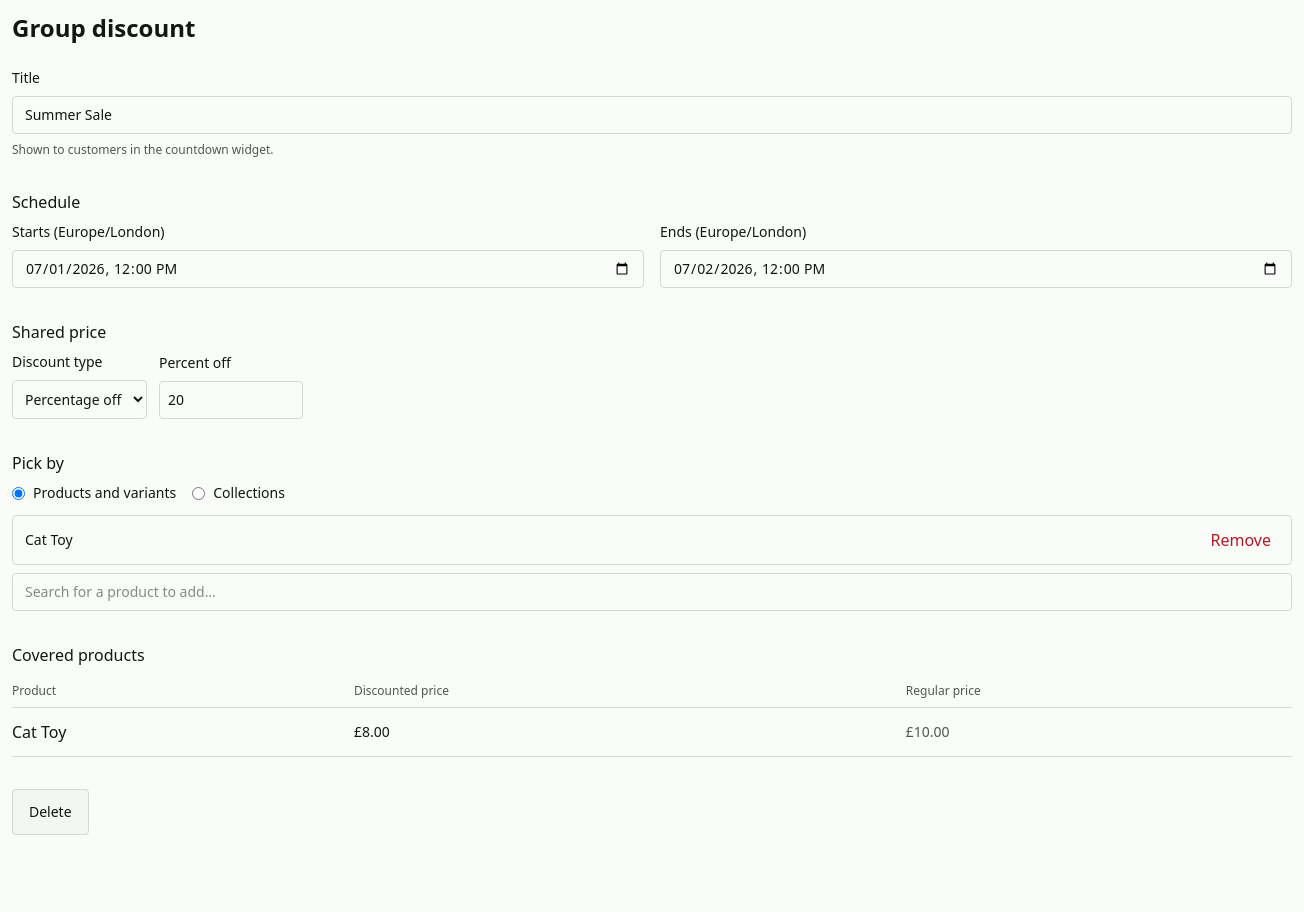
Test: GroupDiscountEditor — shared price › saves a new amount after a pause, shows the new prices and the "Saved" pill
This screenshot has width=1304, height=912.
Replace the text in the number field labelled "Percent off" with "30". click: x=231, y=400
box: top-left (159, 381), bottom-right (303, 419)
Wait 600 ms
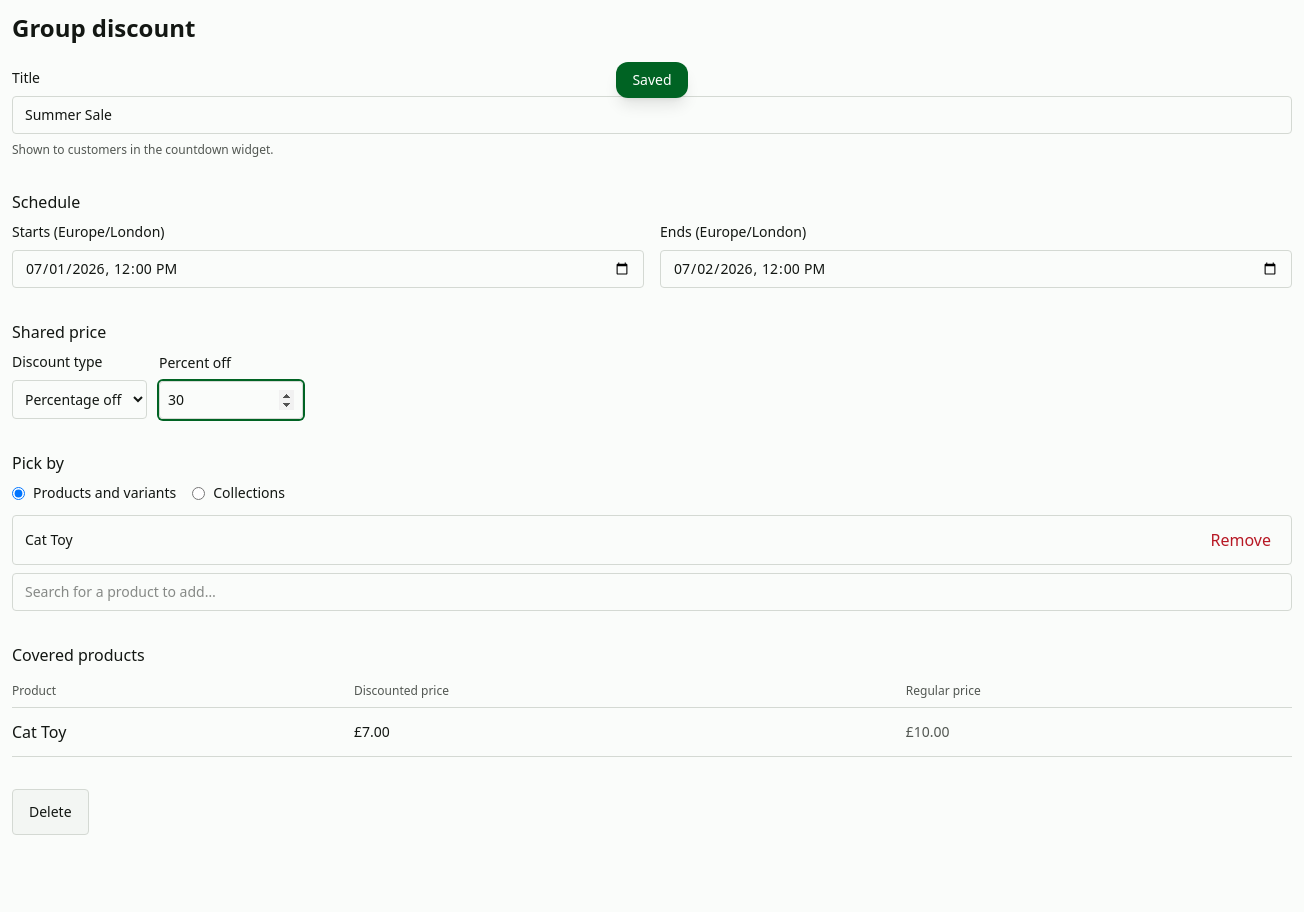
expect the text "£7.00" is shown: met, box top-left (354, 708), bottom-right (906, 756)
expect the text "Saved" is shown: met, box top-left (616, 62), bottom-right (688, 98)
